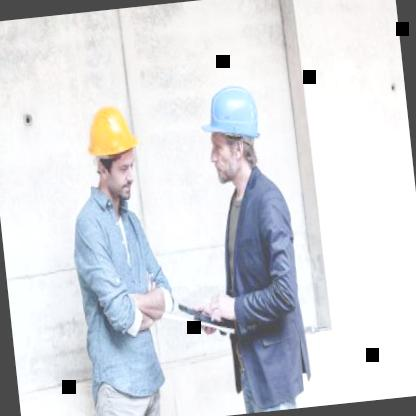helmet: (190, 60, 274, 204), (82, 92, 146, 202)
